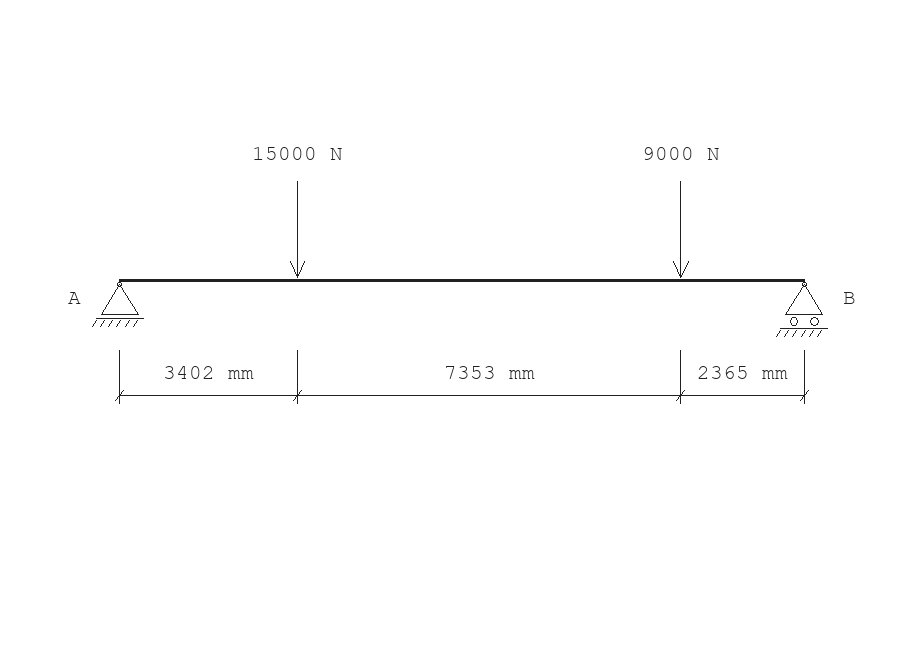pin_support: (92, 282, 144, 327)
point_load: (673, 181, 689, 278), (290, 181, 305, 278)
roller_support: (776, 282, 828, 337)
